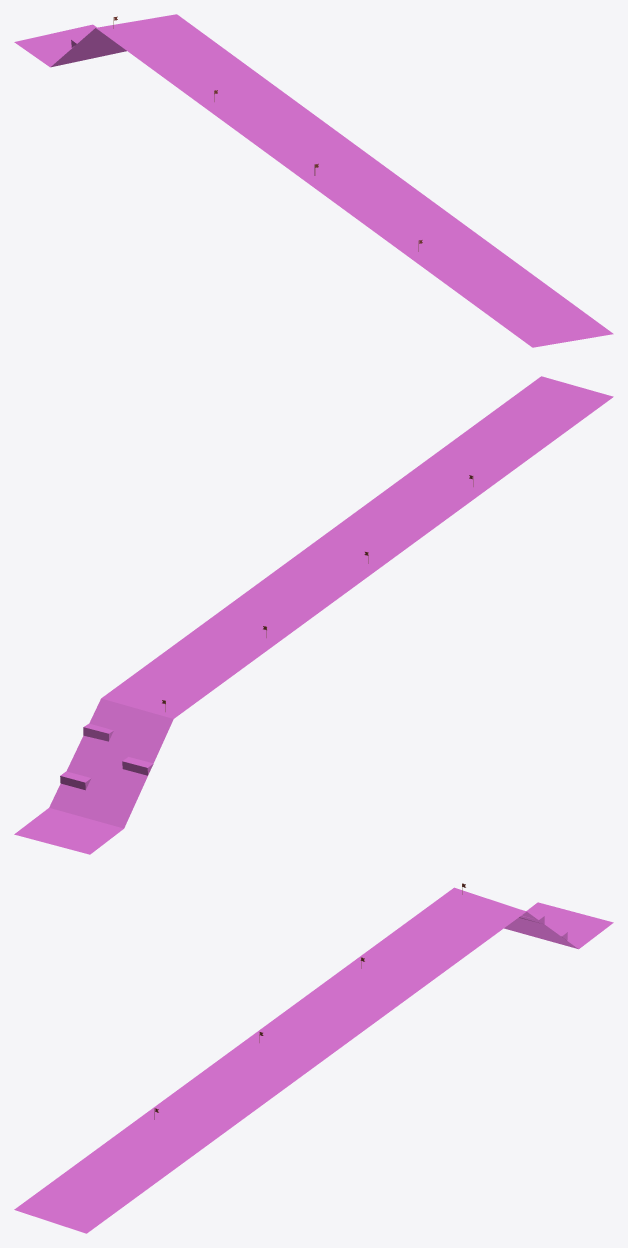
The model's file is Level4World.glb.
3 renders of one model, top to bottom at view 1: azimuth 30°, elevation 25°; view 2: azimuth 150°, elevation 25°; view 3: azimuth 330°, elevation 25°, orthographic.
Visible parts, largest first — view 1: Floor; view 2: Floor; view 3: Floor.
Boxes of the visible parts, box(x1,y1,x2,y2) form: Floor: box(14, 14, 613, 347); Floor: box(14, 376, 613, 854); Floor: box(14, 887, 613, 1233).
Bounding box in the file's own units: 37.55 × 38.99 × 431.
